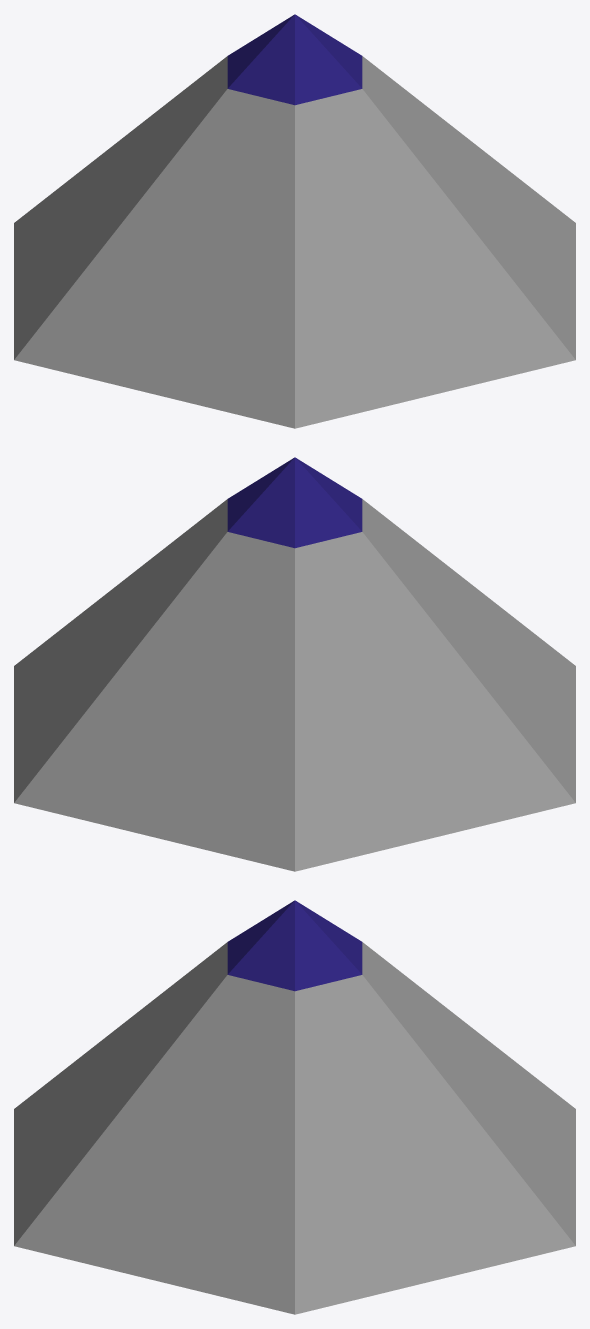
The model's file is mountain_1.FBX.
3 renders of one model, top to bottom at view 1: azimuth 30°, elevation 25°; view 2: azimuth 150°, elevation 25°; view 3: azimuth 270°, elevation 25°, orthographic.
Parts seen in each view (by area): view 1: Cylinder002; view 2: Cylinder002; view 3: Cylinder002.
Boxes of the visible parts, bbox=[...] form: Cylinder002: bbox=[14, 14, 575, 428]; Cylinder002: bbox=[14, 457, 575, 871]; Cylinder002: bbox=[14, 900, 575, 1314].
Size of the model in its own units: 1000 by 472 by 866.
